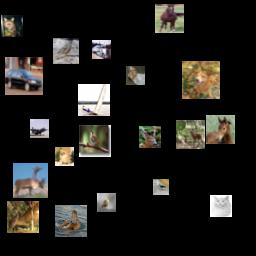airplane: (30, 119, 49, 138)
automobile: (5, 57, 43, 95)
bird: (55, 205, 87, 237), (79, 125, 111, 157), (53, 38, 79, 64), (97, 193, 116, 212), (153, 179, 169, 195)
cat: (210, 195, 232, 217), (1, 15, 23, 37)
deer: (13, 163, 48, 198), (7, 201, 39, 233), (176, 120, 205, 149), (139, 126, 161, 148)
dog: (182, 61, 220, 99), (55, 147, 74, 166)
frog: (126, 66, 145, 85)
ship: (78, 84, 110, 116)
truck: (92, 40, 111, 59)
